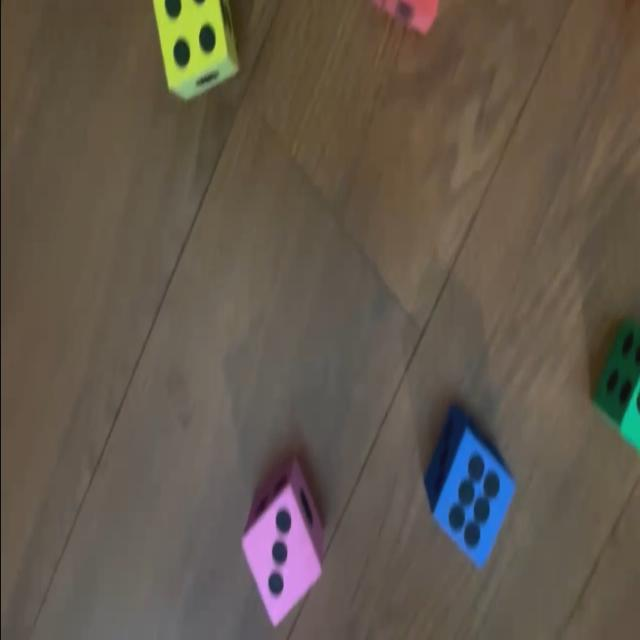cube: (424, 410, 514, 570), (594, 320, 640, 455), (371, 0, 437, 33)
